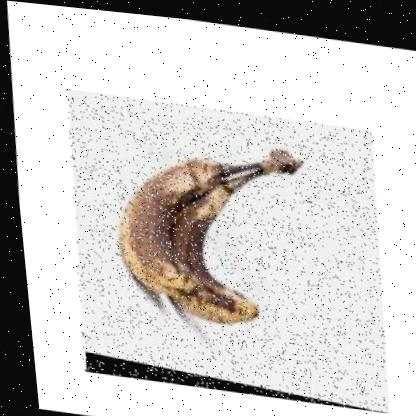banana_rotten: (53, 84, 392, 406)
